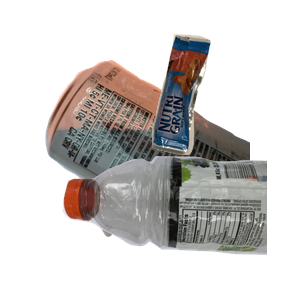glass: (94, 184, 253, 300)
metal: (43, 58, 283, 238)
plastic: (60, 152, 300, 300)
trash: (149, 31, 300, 179)
